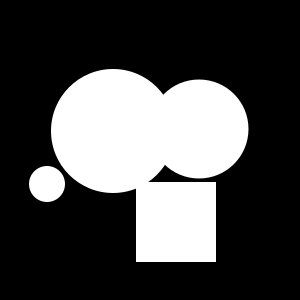circle: (136, 182, 216, 262)
rectangle: (51, 69, 175, 193), (150, 80, 248, 178), (178, 92, 214, 130), (29, 166, 65, 202)
